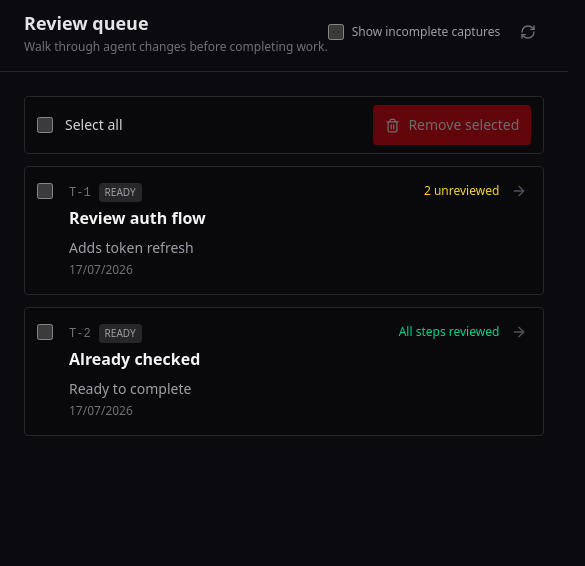
Test: ReviewQueuePage › hides capturing reviews by default and reveals them explicitly
The image size is (585, 566).
Check: the text "Work in progress" is not shown
Click the checkbox labelled "Show incomplete captures": coordinates (336, 32) [328, 24, 344, 40]
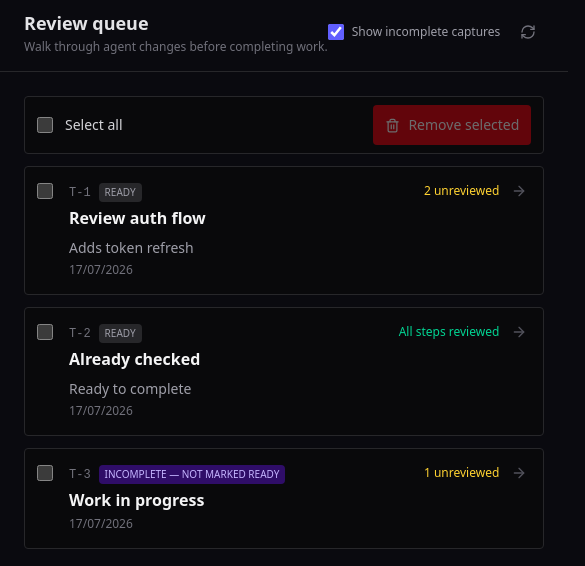
Check: the heading "Work in progress" is shown, box [69, 489, 204, 511]
Check: the text "Incomplete — not marked ready" is shown, box [99, 465, 285, 484]
